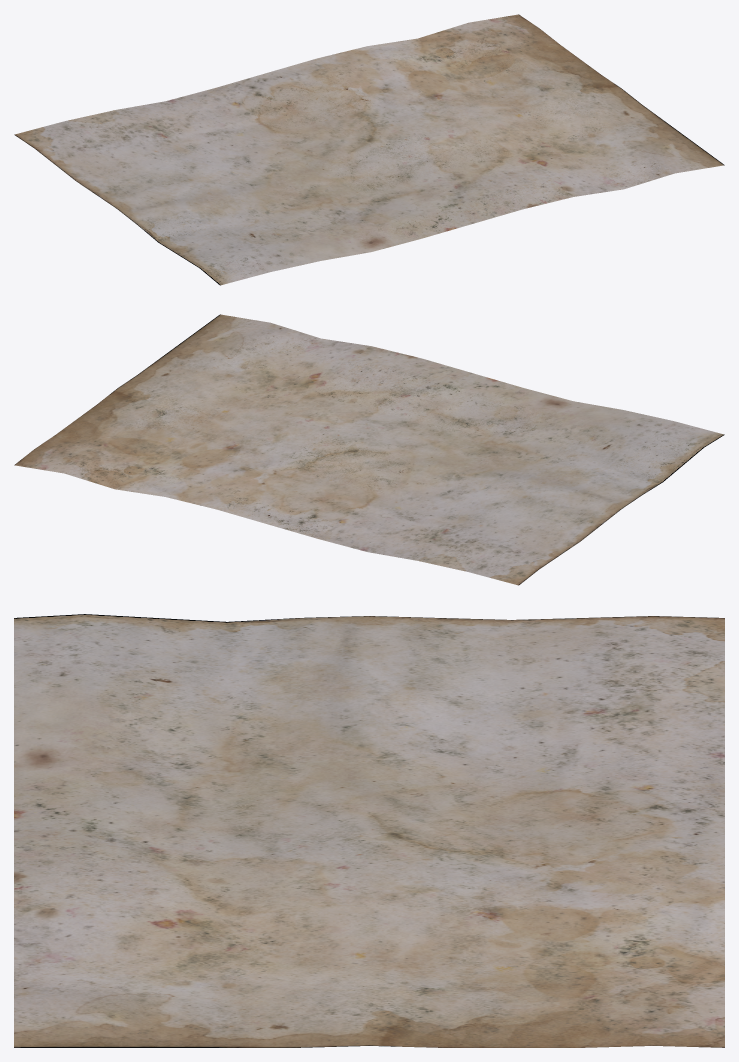
The model's file is paper.obj.
3 views of the same model, one above another, from view 1: azimuth 30°, elevation 25°; view 2: azimuth 150°, elevation 25°; view 3: azimuth 270°, elevation 25° (orthographic). The views are drawn at different scales.
Parts seen in each view (by area): view 1: pPlane1; view 2: pPlane1; view 3: pPlane1.
Part boxes in pixels (x1,y1,x2,y2): pPlane1: (14, 14, 724, 285); pPlane1: (14, 314, 724, 585); pPlane1: (14, 614, 724, 1047).
Size of the model in its own units: 1 by 0.0174 by 0.7071.
